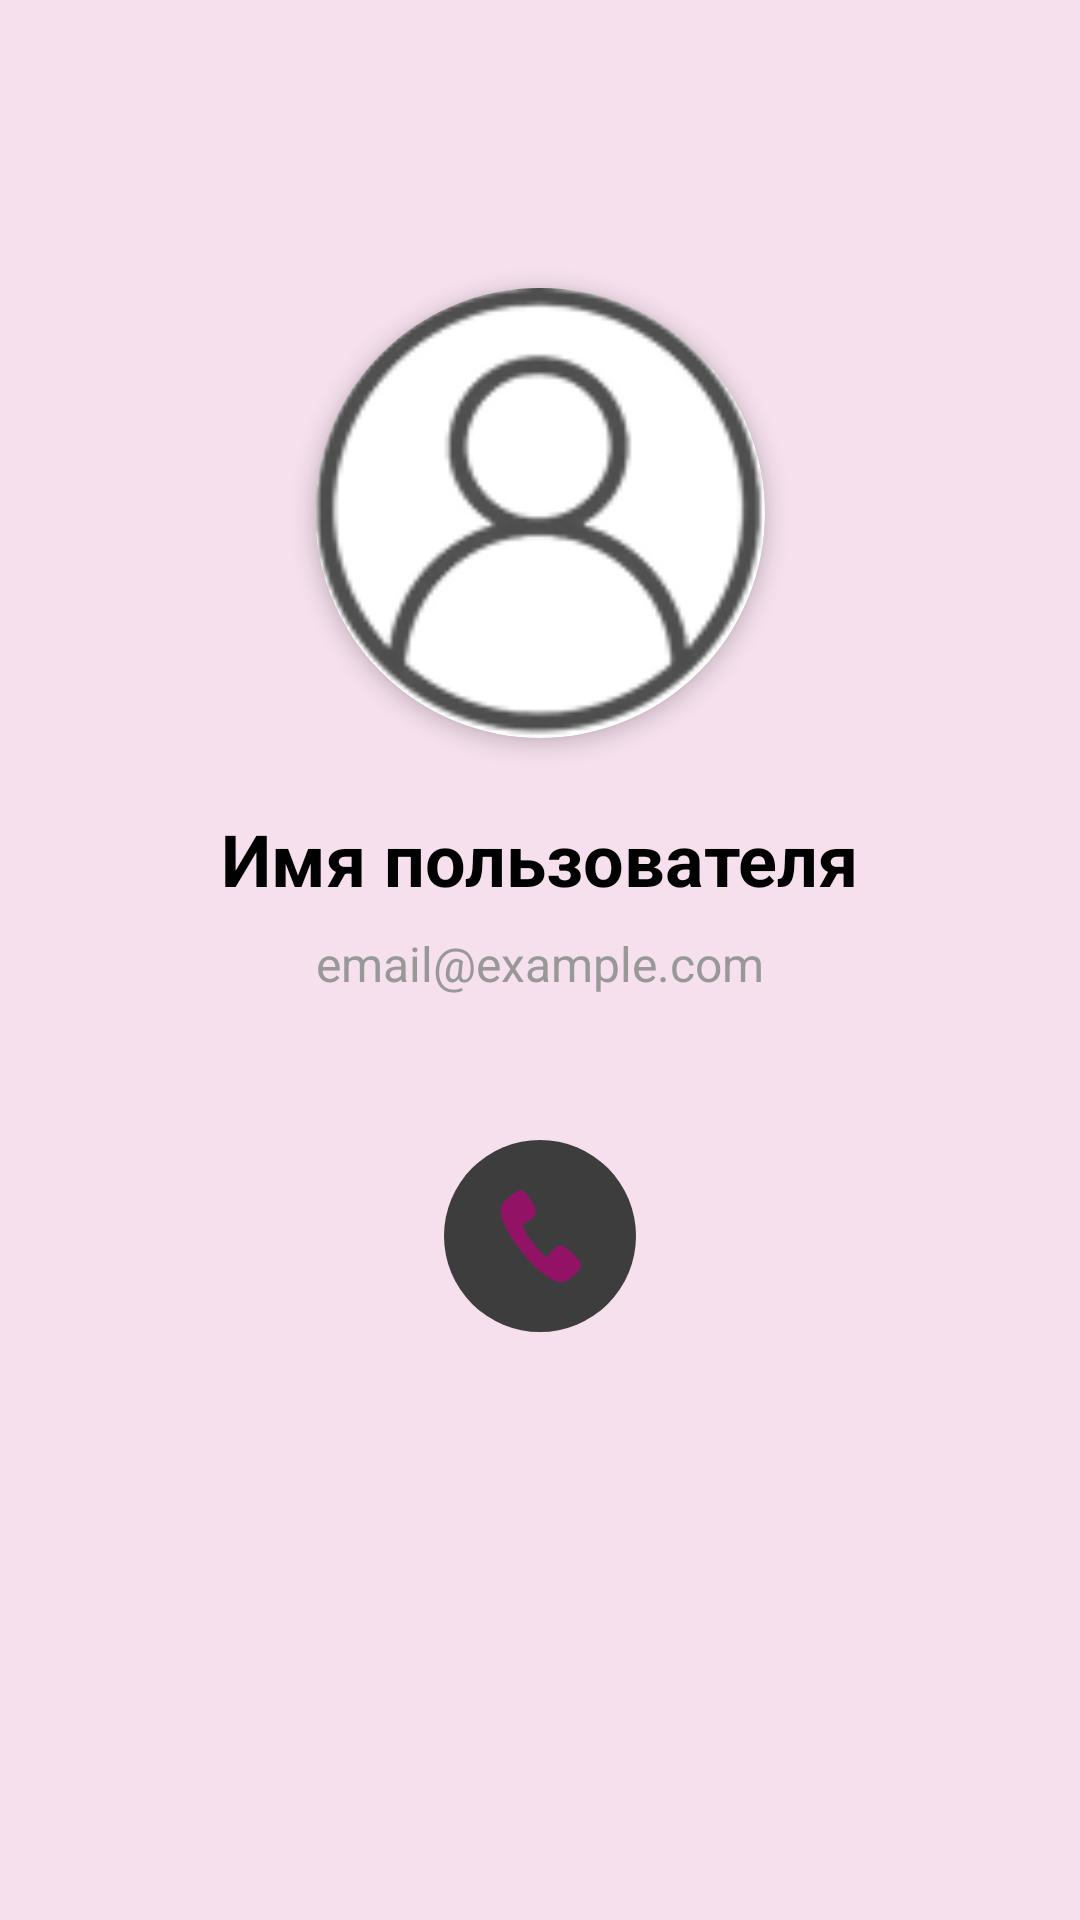

Named icons in this screenshot (1080px×1920px) and their centers, (x,y):
call: (540,1236)
